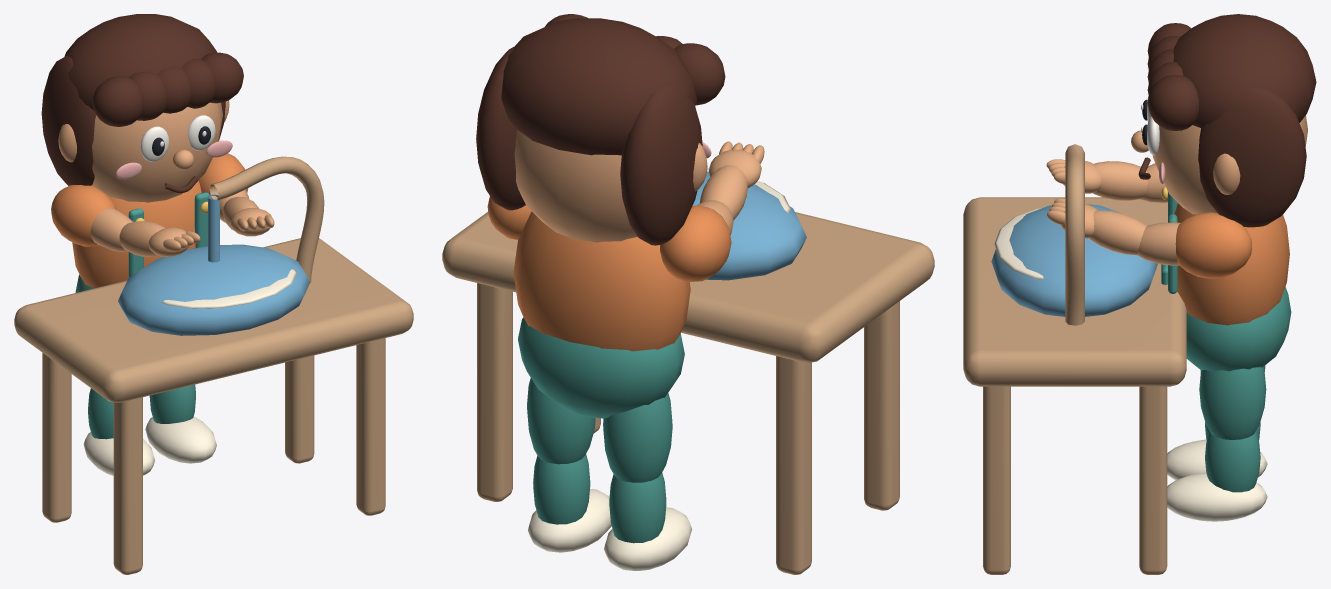
The model's file is ava-wash.glb.
3 views of the same model, side by side, from view 1: azimuth 30°, elevation 25°; view 2: azimuth 150°, elevation 25°; view 3: azimuth 270°, elevation 25° (orthographic). The views are drawn at different scales.
Parts seen in each view (by area): view 1: table top, basin, hair cap, clay head, table leg, table leg.002, table leg.001, bob hair, soft shirt, tap, table leg.003, shirt sleeve (+21 smaller); view 2: table top, hair cap, soft shirt, overalls, bob hair, clay head, table leg.001, table leg.003, table leg, basin, trouser leg, bob hair.001 (+10 smaller); view 3: table top, bob hair.001, hair cap, basin, soft shirt, table leg.003, table leg.002, overalls, trouser leg.001, shirt sleeve.001, tap, clay head (+13 smaller).
Boxes of the visible parts, box(x1,y1,x2,y2) form: table top: box(14, 238, 413, 402); basin: box(118, 244, 309, 335); hair cap: box(64, 14, 217, 110); clay head: box(91, 102, 222, 202); table leg: box(113, 397, 142, 574); table leg.002: box(356, 338, 385, 515); table leg.001: box(42, 353, 71, 522); bob hair: box(41, 55, 96, 185); soft shirt: box(72, 180, 201, 288); tap: box(209, 156, 324, 282); table leg.003: box(285, 355, 314, 463); shirt sleeve: box(51, 185, 116, 246); table top: box(442, 212, 934, 362); hair cap: box(501, 18, 696, 155); soft shirt: box(513, 211, 690, 351); overalls: box(518, 317, 684, 418); bob hair: box(620, 85, 702, 245); clay head: box(514, 130, 637, 242); table leg.001: box(776, 356, 811, 574); table leg.003: box(477, 283, 512, 501); table leg: box(864, 301, 899, 510); basin: box(692, 171, 806, 280); trouser leg: box(603, 393, 672, 482); bob hair.001: box(476, 46, 525, 210); table top: box(963, 197, 1186, 386); bob hair.001: box(1198, 88, 1306, 227); hair cap: box(1173, 14, 1316, 128); basin: box(991, 204, 1157, 316); soft shirt: box(1174, 203, 1289, 325); table leg.003: box(1139, 386, 1167, 574); table leg.002: box(983, 386, 1010, 574); overalls: box(1186, 287, 1291, 371); trouser leg.001: box(1199, 367, 1266, 439); shirt sleeve.001: box(1175, 212, 1251, 278); tap: box(1065, 144, 1084, 325); clay head: box(1152, 115, 1307, 214).
Size of the model in its own units: 1.4 by 1.9 by 1.27.
